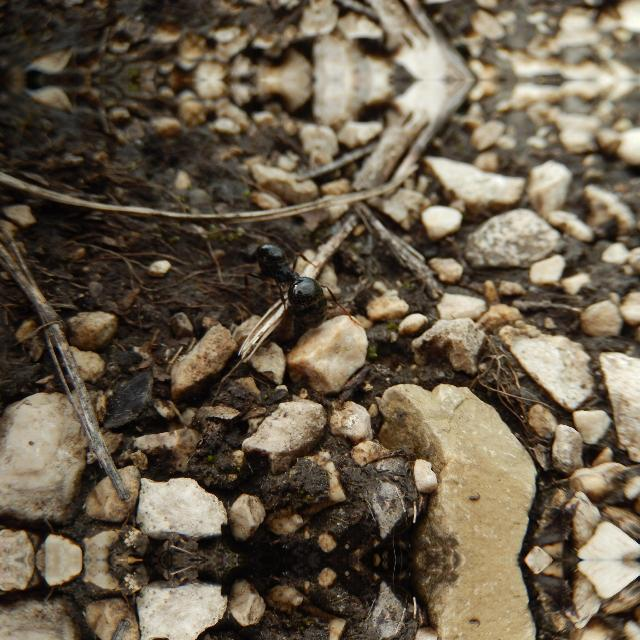Messor: (242, 224, 338, 350)
